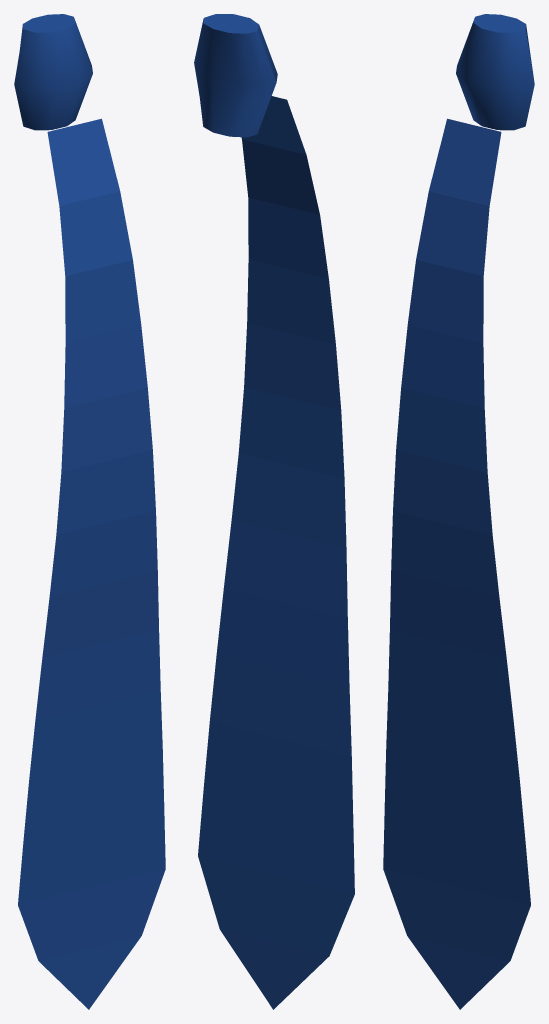
The model's file is npc_tie_m.glb.
3 renders of one model, left to right at view 1: azimuth 30°, elevation 25°; view 2: azimuth 150°, elevation 25°; view 3: azimuth 330°, elevation 25°, orthographic. The views are drawn at different scales.
Parts seen in each view (by area): view 1: npc_tie_m; view 2: npc_tie_m; view 3: npc_tie_m.
Boxes of the visible parts, x1=… form: npc_tie_m: x1=14, y1=14, x2=165, y2=1009; npc_tie_m: x1=194, y1=14, x2=354, y2=1009; npc_tie_m: x1=383, y1=14, x2=534, y2=1009.
Size of the model in its own units: 0.0761 by 0.471 by 0.0598.
